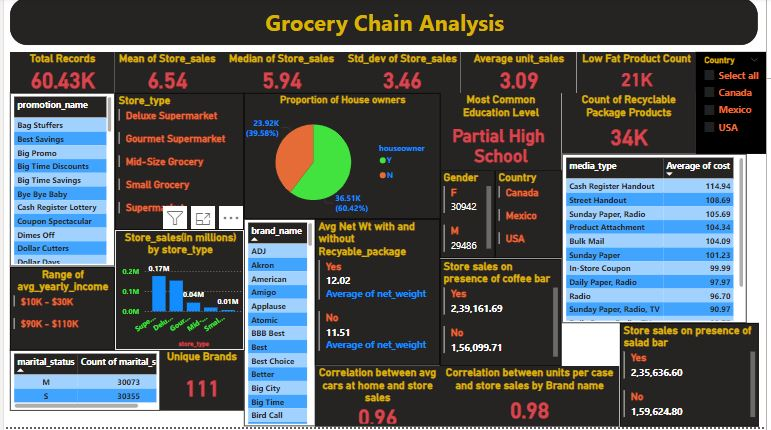

This screenshot's page, from the dashboard's own definition file:
{"tool":"powerbi","page":{"name":"Page 1","canvas":[1280,720],"ordinal":0},"visuals":[{"type":"textbox","box":[10.1,0,1256.5,79],"z":0},{"type":"card","title":"Total Records","fields":{"Values":["CountNonNull(custo_cost.food_category)"]},"box":[10.1,90.7,176.4,68.9],"z":1000},{"type":"card","title":"Mean of Store_sales","fields":{"Values":["custo_cost.Mean_Store_sales"]},"box":[185.8,90.7,175.7,69.1],"z":2000},{"type":"card","title":"Median of Store_sales","fields":{"Values":["custo_cost.Median_Store_Sales"]},"box":[361.4,90.7,210.2,69.1],"z":3000},{"type":"card","title":"Std_dev of Store_sales","fields":{"Values":["custo_cost.Std_Dev"]},"box":[571.7,90.7,195.8,69.1],"z":4000},{"type":"tableEx","fields":{"Values":["custo_cost.promotion_name"]},"box":[10.1,159.8,175.7,290.9],"z":5000},{"type":"multiRowCard","title":"Country","fields":{"Values":["custo_cost.sales_country"]},"box":[825.1,289.4,112.3,148.3],"z":6000},{"type":"multiRowCard","title":"Gender","fields":{"Values":["custo_cost.gender","CountNonNull(custo_cost.gender)"]},"box":[733,289.4,92.2,148.3],"z":7000},{"type":"card","title":"Average unit_sales","fields":{"Values":["custo_cost.Avg_unit_sales"]},"box":[767.5,90.7,194.4,69.1],"z":8000},{"type":"multiRowCard","title":"Store_type","fields":{"Values":["custo_cost.store_type"]},"box":[185.8,159.8,217.4,230.4],"z":9000},{"type":"tableEx","title":"Marital_Status","fields":{"Values":["custo_cost.marital_status","CountNonNull(custo_cost.marital_status)"]},"box":[10.1,591.8,252,102.2],"z":10000},{"type":"multiRowCard","title":"Range of avg_yearly_income","fields":{"Values":["custo_cost.avg. yearly_income"]},"box":[10.1,452.2,175.7,139.7],"z":11000},{"type":"tableEx","fields":{"Values":["custo_cost.brand_name"]},"box":[403.2,371.5,119.5,348.5],"z":12000},{"type":"card","title":"Most Common Education Level","fields":{"Values":["Min(custo_cost.education)"]},"box":[733,159.8,204.5,129.6],"z":13000},{"type":"pieChart","title":"Proportion of House owners","fields":{"Category":["custo_cost.houseowner"],"Y":["CountNonNull(custo_cost.houseowner)"]},"box":[403.2,159.8,329.8,211.7],"z":14000},{"type":"tableEx","fields":{"Values":["custo_cost.media_type","Avg(custo_cost.cost)"]},"box":[937.4,262.1,309.6,283.7],"z":15000},{"type":"card","title":"Low Fat Product Count","fields":{"Values":["Sum(custo_cost.low_fat)"]},"box":[961.9,90.7,200.2,69.1],"z":16000},{"type":"card","title":"Count of Recyclable Package Products","fields":{"Values":["Sum(custo_cost.recyclable_package)"]},"box":[937.4,159.8,224.6,102.2],"z":17000},{"type":"multiRowCard","title":"Avg Net Wt with and without Recyable_package","fields":{"Values":["Avg(custo_cost.net_weight)","custo_cost.recyclable_package - Copy"]},"box":[522.7,371.5,210.2,246.2],"z":18000},{"type":"multiRowCard","title":"Store sales on presence of salad bar","fields":{"Values":["Sum(custo_cost.store_sales(in millions))","custo_cost.salad_bar - Copy"]},"box":[1033.9,545.8,233.3,174.2],"z":19000},{"type":"multiRowCard","title":"Store sales on presence of coffee bar","fields":{"Values":["Sum(custo_cost.store_sales(in millions))","custo_cost.coffee_bar - Copy"]},"box":[733,437.8,204.5,180],"z":20000},{"type":"columnChart","title":"Store_sales(in millions) by store_type","fields":{"Category":["custo_cost.store_type"],"Y":["Sum(custo_cost.store_sales(in millions))"]},"box":[185.8,390.2,217.4,201.6],"z":20001},{"type":"card","title":"Unique Brands","fields":{"Values":["Count(custo_cost.brand_name)"]},"box":[262.1,591.8,141.1,102.2],"z":20002},{"type":"card","title":"Correlation between avg cars at home and store sales","fields":{"Values":["Summarize_Radio_Paper.Total cars and Total Sales correlation for member_card"]},"box":[522.7,617.8,210.2,102.2],"z":20003},{"type":"card","title":"Correlation between units per case and store sales by Brand name","fields":{"Values":["Summarize_Radio_Paper.Total units and Total Sales correlation for brand_name"]},"box":[733,617.8,301,102.2],"z":20004},{"type":"slicer","fields":{"Values":["custo_cost.sales_country"]},"box":[1162.1,90.7,118.1,171.4],"z":20005}]}

Visuals, with their boxes in screenshot pixels (x1, y1, x2, y2), scaled from the page's 1280x720 canvas onto the 771x430 screenshot:
textbox: 6 0 763 47
"Total Records" card: 6 54 112 95
"Mean of Store_sales" card: 112 54 218 95
"Median of Store_sales" card: 218 54 344 95
"Std_dev of Store_sales" card: 344 54 462 95
tableEx - custo_cost.promotion_name: 6 95 112 269
"Country" multiRowCard: 497 173 565 261
"Gender" multiRowCard: 442 173 497 261
"Average unit_sales" card: 462 54 579 95
"Store_type" multiRowCard: 112 95 243 233
"Marital_Status" tableEx: 6 353 158 414
"Range of avg_yearly_income" multiRowCard: 6 270 112 353
tableEx - custo_cost.brand_name: 243 222 315 429
"Most Common Education Level" card: 442 95 565 173
"Proportion of House owners" pieChart: 243 95 442 222
tableEx - custo_cost.media_type x Avg(custo_cost.cost): 565 157 751 326
"Low Fat Product Count" card: 579 54 700 95
"Count of Recyclable Package Products" card: 565 95 700 156
"Avg Net Wt with and without Recyable_package" multiRowCard: 315 222 441 369
"Store sales on presence of salad bar" multiRowCard: 623 326 763 429
"Store sales on presence of coffee bar" multiRowCard: 442 261 565 369
"Store_sales(in millions) by store_type" columnChart: 112 233 243 353
"Unique Brands" card: 158 353 243 414
"Correlation between avg cars at home and store sales" card: 315 369 441 429
"Correlation between units per case and store sales by Brand name" card: 442 369 623 429
slicer - custo_cost.sales_country: 700 54 770 157
